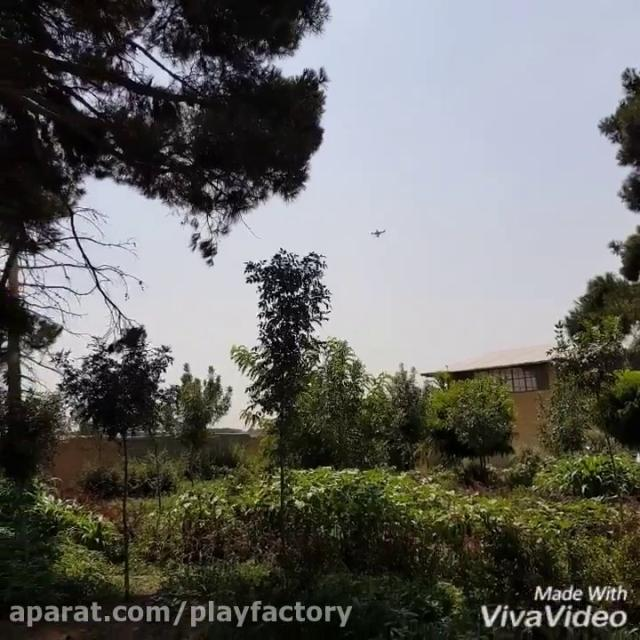drone: (365, 222, 391, 241)
